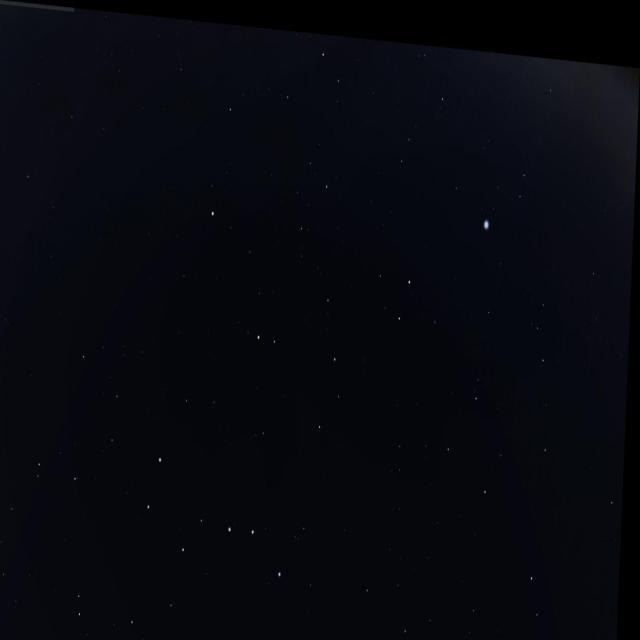lyra: (482, 128, 536, 232)
ursa_major: (147, 442, 293, 585)
